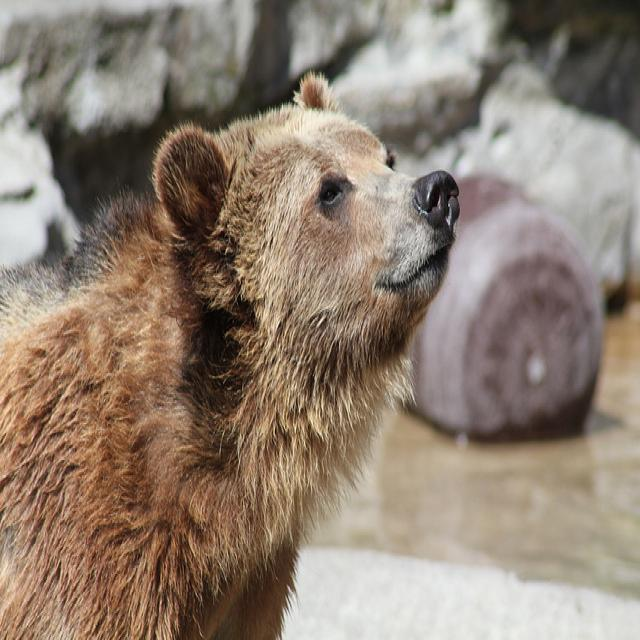Bear: (0, 61, 468, 640)
